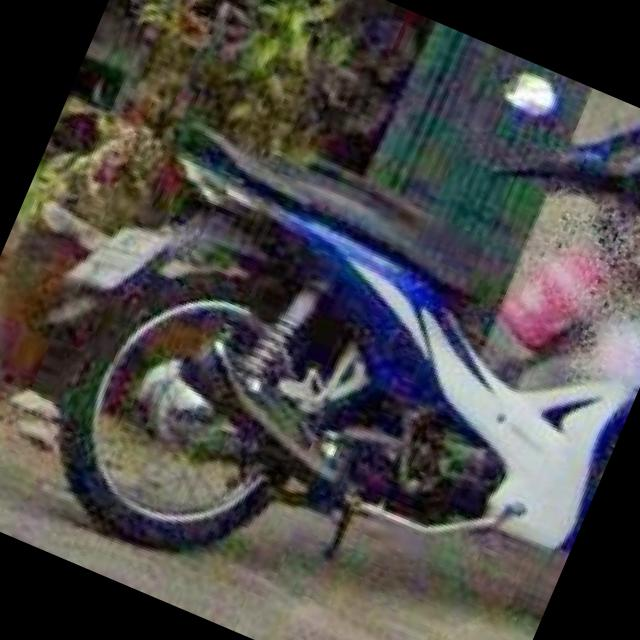bike: (20, 125, 640, 555)
